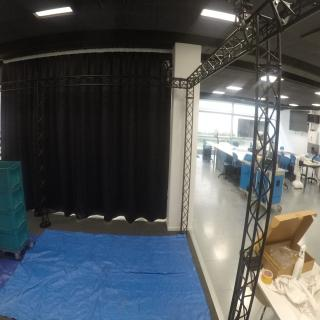BoxB4: (1, 223, 30, 249), (1, 204, 28, 231), (1, 183, 26, 209), (1, 163, 22, 190)
